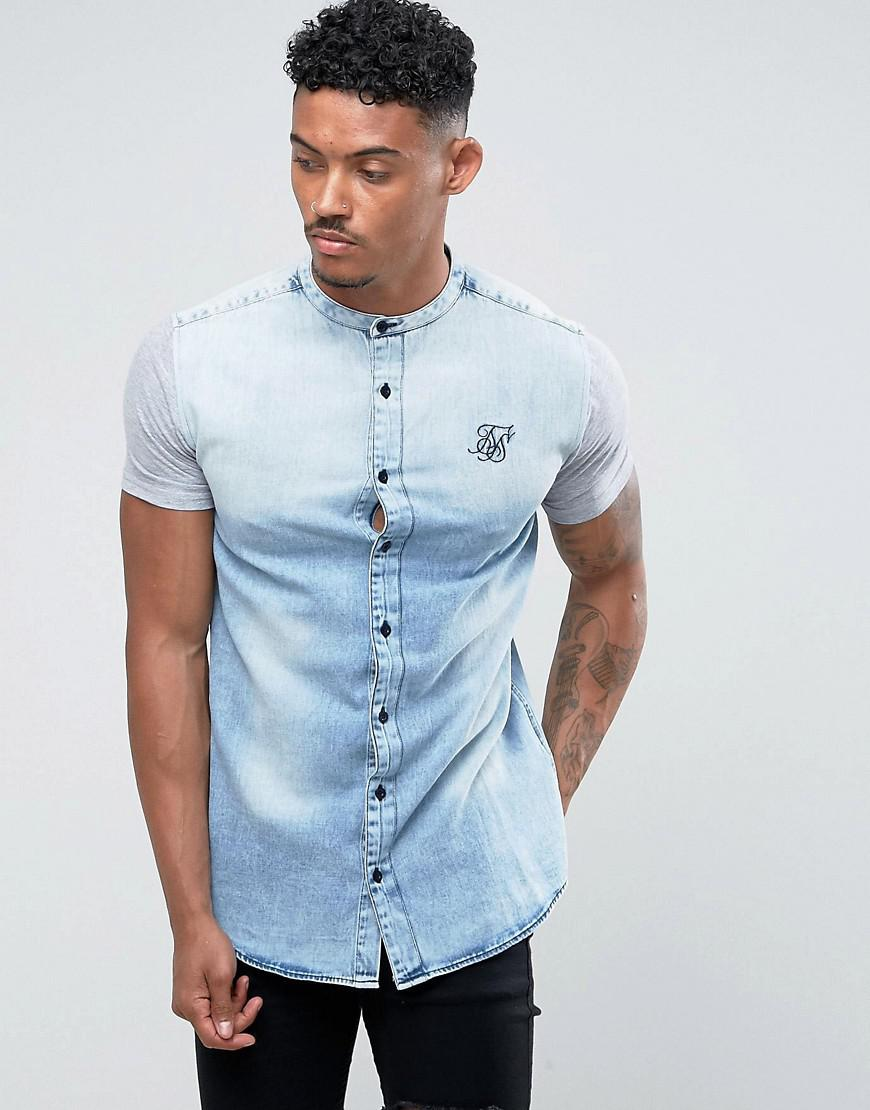teeshirt: (101, 244, 640, 995)
